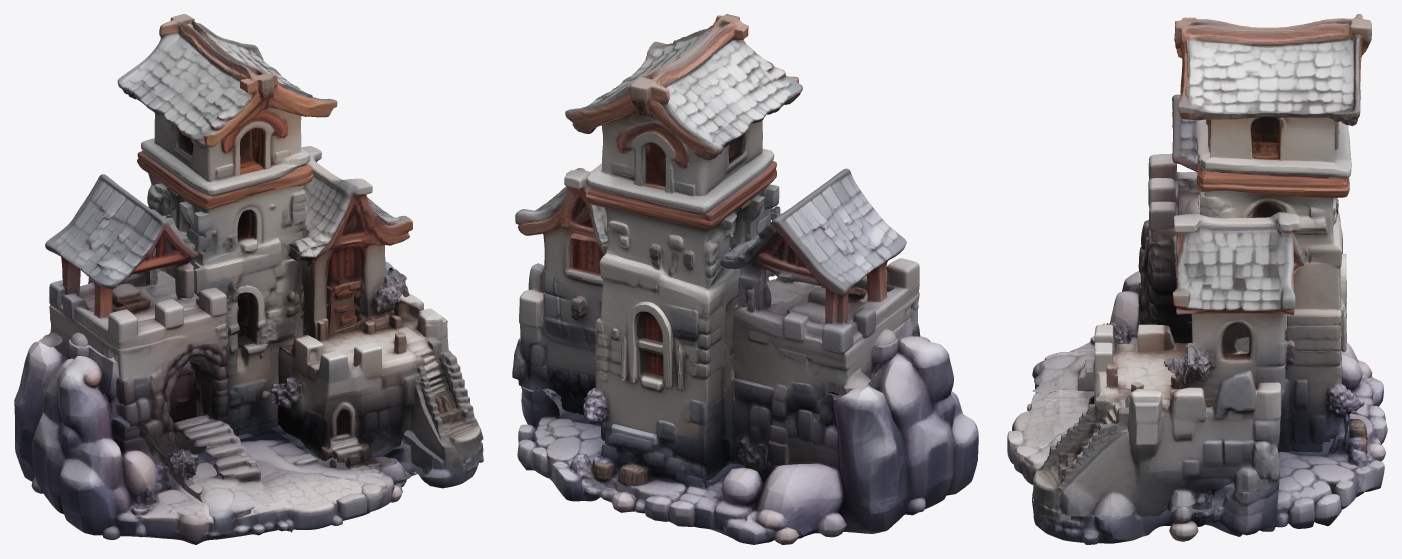
The picture shows the model from 3 angles, left to right: view 1: azimuth 30°, elevation 25°; view 2: azimuth 150°, elevation 25°; view 3: azimuth 270°, elevation 25°; orthographic projection. The views are drawn at different scales.
Visible parts, largest first — view 1: 1, 3, 0, 2, 4, 5; view 2: 1, 0, 2, 3; view 3: 3, 1, 0, 2.
Part boxes in pixels (left/top/right/bottom): 1: left=117, top=14, right=337, bottom=435; 3: left=270, top=146, right=483, bottom=470; 0: left=14, top=339, right=483, bottom=544; 2: left=39, top=174, right=272, bottom=530; 4: left=170, top=361, right=196, bottom=422; 5: left=326, top=277, right=357, bottom=333; 1: left=565, top=14, right=802, bottom=481; 0: left=517, top=317, right=978, bottom=544; 2: left=720, top=168, right=920, bottom=470; 3: left=512, top=168, right=607, bottom=415; 3: left=1032, top=212, right=1305, bottom=520; 1: left=1174, top=14, right=1371, bottom=452; 0: left=1007, top=271, right=1387, bottom=544; 2: left=1032, top=94, right=1201, bottom=395.
Size of the model in its own units: 0.9664 by 0.9699 by 0.7504.
Materials: 7 (7 with a texture image).
